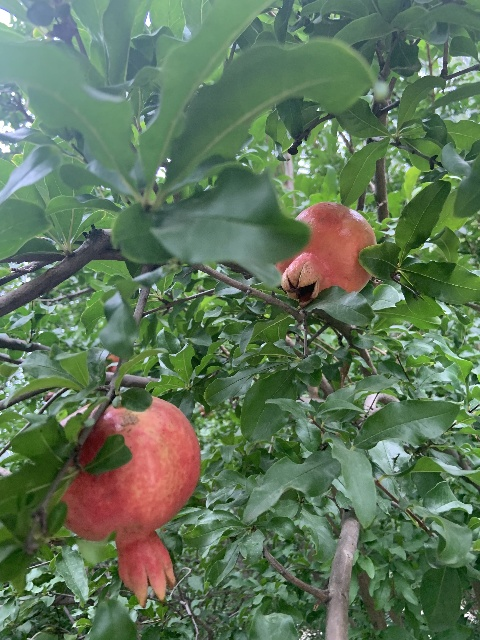ripe: (59, 395, 200, 606), (275, 202, 376, 306)
